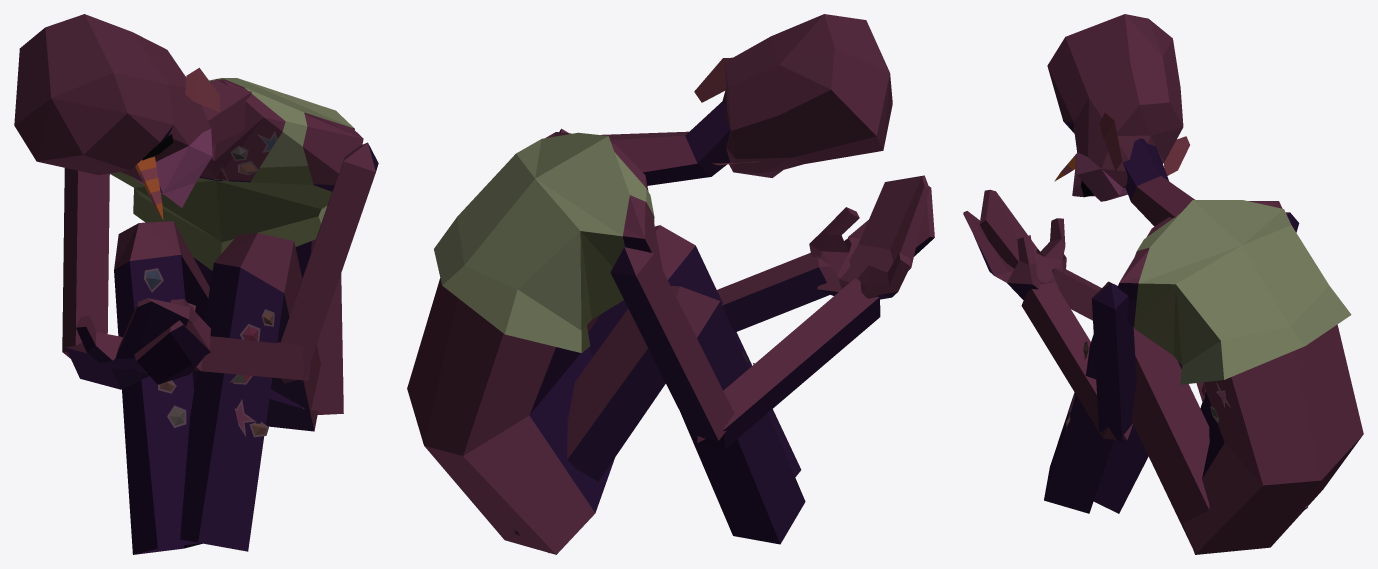
Rendered from Character05.fbx.
3 renders of one model, left to right at view 1: azimuth 30°, elevation 25°; view 2: azimuth 150°, elevation 25°; view 3: azimuth 270°, elevation 25°, orthographic. The views are drawn at different scales.
Visible parts, largest first — view 1: Mesh_Character05; view 2: Mesh_Character05; view 3: Mesh_Character05.
Part boxes in pixels (x1,y1,x2,y2): Mesh_Character05: (14, 14, 378, 554); Mesh_Character05: (407, 14, 934, 554); Mesh_Character05: (963, 14, 1363, 554).
Bounding box in the file's own units: 11.6 × 12.07 × 15.33.
